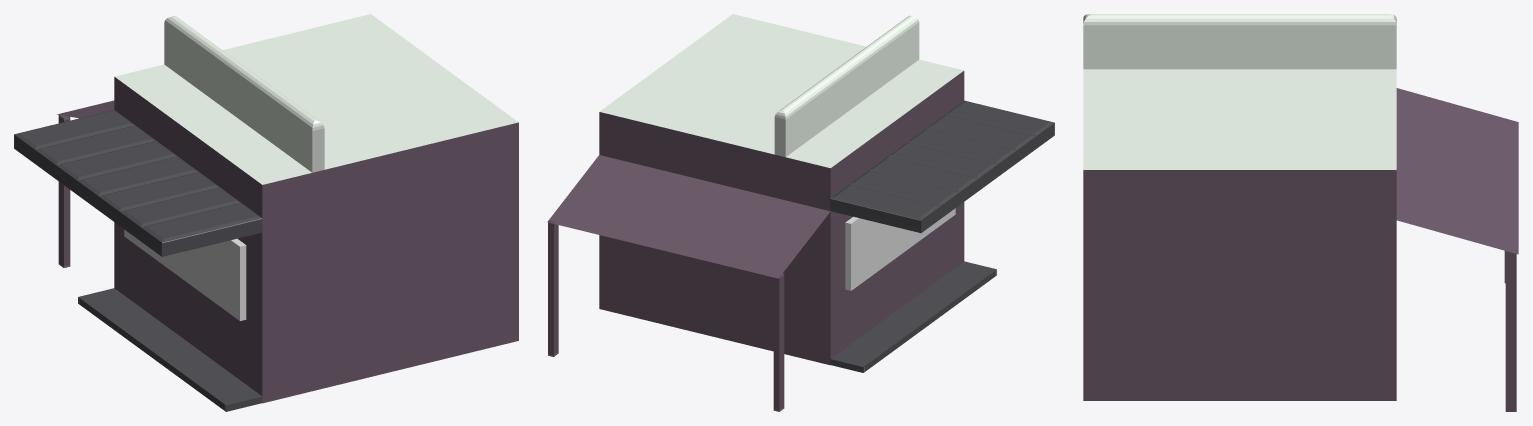
Rendered from shop4.gltf.
3 renders of one model, left to right at view 1: azimuth 30°, elevation 25°; view 2: azimuth 150°, elevation 25°; view 3: azimuth 270°, elevation 25°, orthographic. The views are drawn at different scales.
Parts seen in each view (by area): view 1: Cube, Cube.001, Cube.006, Cube.003, Cube.005, Cube.002, Cube.007; view 2: Cube.007, Cube, Cube.001, Cube.006, Cube.003, Cube.005, Cube.002; view 3: Cube, Cube.001, Cube.007.
Part boxes in pixels (x1,y1,x2,y2): Cube: (114,77,518,403); Cube.001: (114,14,518,184); Cube.006: (14,110,262,243); Cube.003: (78,288,262,411); Cube.005: (124,229,246,320); Cube.002: (14,135,262,256); Cube.007: (57,100,114,267); Cube.007: (547,112,830,411); Cube: (599,71,964,364); Cube.001: (599,14,963,168); Cube.006: (830,100,1054,220); Cube.003: (830,261,996,372); Cube.005: (845,208,955,290); Cube.002: (830,123,1054,232); Cube: (1083,170,1396,400); Cube.001: (1083,14,1396,169); Cube.007: (1396,88,1518,411).
Bounding box in the file's own units: 5.5 × 4.09 × 5.49.
4 materials, 4 textured.
